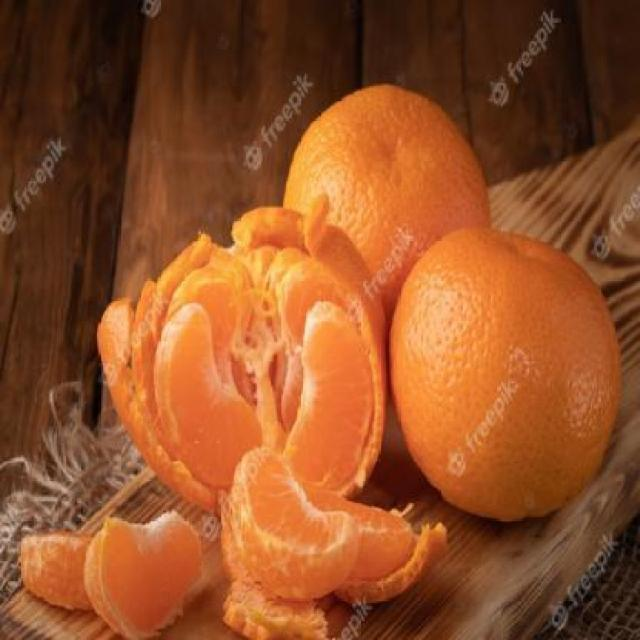Jeruk Sudah Matang: (381, 218, 627, 534), (270, 80, 498, 417)
